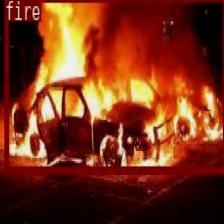fire: (4, 0, 224, 172)
